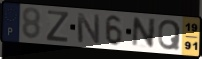6: (104, 14, 124, 48)
8: (21, 6, 44, 42)
N: (131, 17, 158, 50), (75, 12, 101, 45)
Q: (157, 19, 182, 52)
Z: (45, 9, 70, 44)
